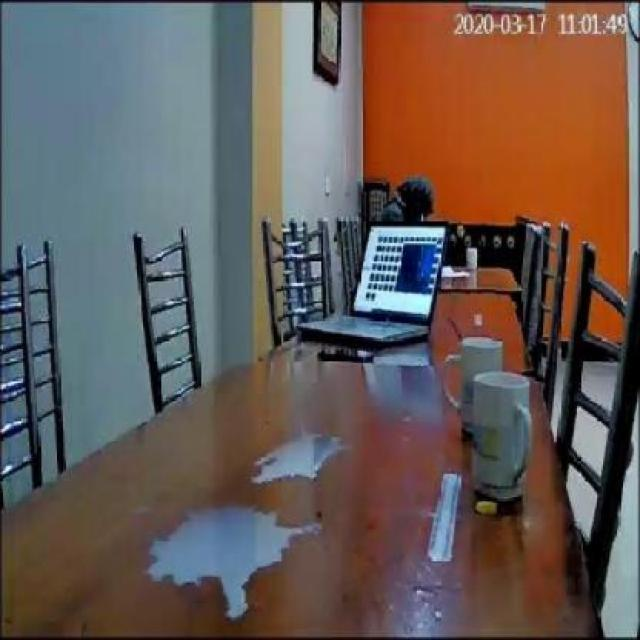spillage: (148, 508, 320, 620), (251, 435, 343, 485)
